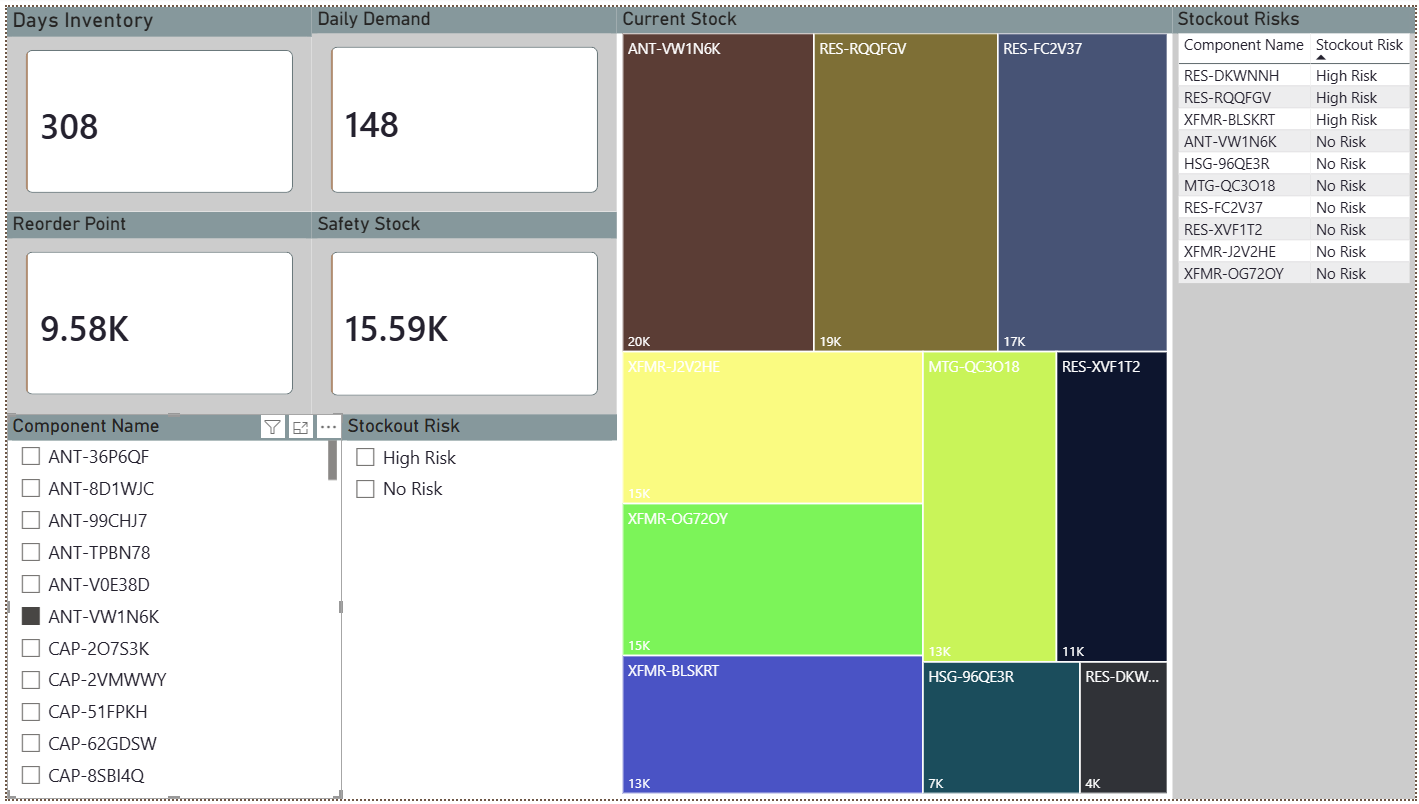

What the dashboard file says about the page in this screenshot:
{"tool":"powerbi","page":{"name":"Stock","canvas":[1280,720],"ordinal":0},"visuals":[{"type":"tableEx","title":"Stockout Risks","fields":{"Values":["Sheet1.Component Name","Sheet1.Stockout Risk"]},"box":[1058.8,0,221.2,719.8],"z":0},{"type":"cardVisual","title":"Days Inventory","fields":{"Data":["Avg(Sheet1.Days Inventory)"]},"box":[0,0,277.3,186.4],"z":1000},{"type":"slicer","title":"Component Name","fields":{"Values":["Sheet1.Component Name"]},"box":[0,370,304.5,350],"z":2000},{"type":"cardVisual","title":"Daily Demand","fields":{"Data":["Avg(Sheet1.Daily Demand)"]},"box":[277.3,0,277.3,186.4],"z":3000},{"type":"slicer","title":"Stockout Risk","fields":{"Values":["Sheet1.Stockout Risk"]},"box":[304.5,370,250,350],"z":4000},{"type":"treemap","title":"Current Stock","fields":{"Group":["Sheet1.Component Name"],"Values":["Sum(Sheet1.Current Stock)"]},"box":[554.5,0,505.5,720],"z":5000},{"type":"cardVisual","title":"Reorder Point","fields":{"Data":["Avg(Sheet1.Reorder Point)"]},"box":[0,186.4,277.3,183.6],"z":6000},{"type":"cardVisual","title":"Safety Stock","fields":{"Data":["Sum(Sheet1.Safety Stock)"]},"box":[277,186,277,184],"z":7000}]}

Visuals, with their boxes in screenshot pixels (x1, y1, x2, y2), scaled from the page's 1280x720 canvas onto the 1419x804 screenshot:
"Stockout Risks" tableEx: [1174, 0, 1418, 803]
"Days Inventory" cardVisual: [0, 0, 307, 208]
"Component Name" slicer: [0, 413, 338, 803]
"Daily Demand" cardVisual: [307, 0, 615, 208]
"Stockout Risk" slicer: [338, 413, 615, 803]
"Current Stock" treemap: [615, 0, 1175, 803]
"Reorder Point" cardVisual: [0, 208, 307, 413]
"Safety Stock" cardVisual: [307, 208, 614, 413]
